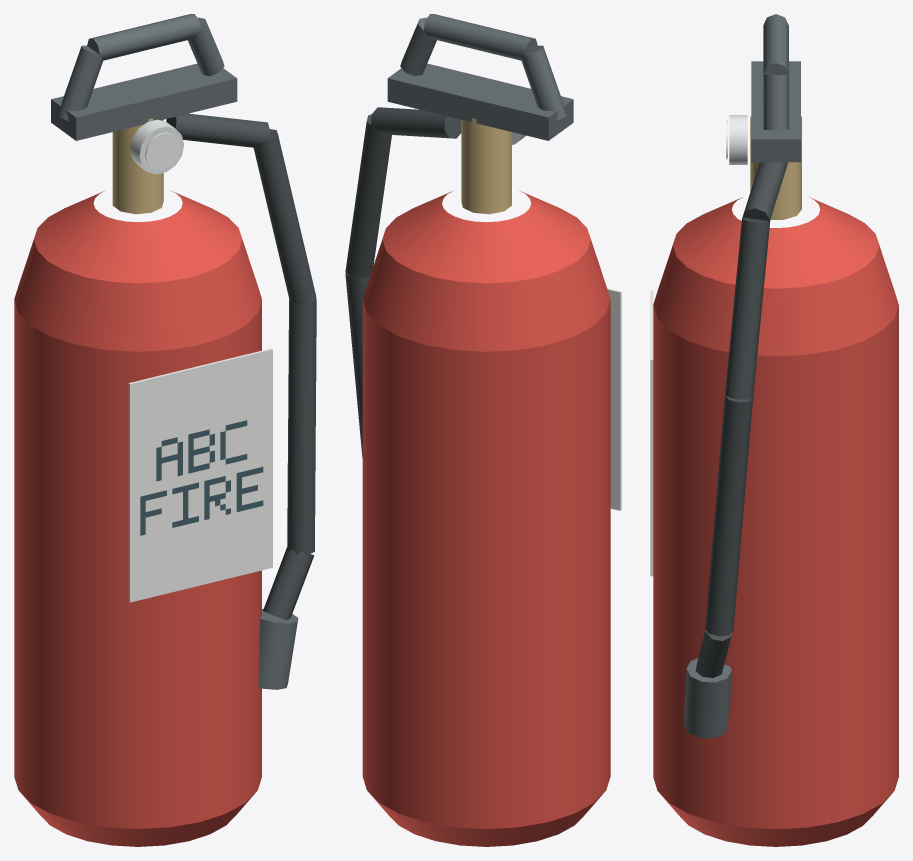
File: extinguisher.glb
3 views of the same model, side by side, from view 1: azimuth 30°, elevation 25°; view 2: azimuth 150°, elevation 25°; view 3: azimuth 270°, elevation 25° (orthographic).
Visible parts, largest first — view 1: Brandsläckare; view 2: Brandsläckare; view 3: Brandsläckare.
Boxes of the visible parts, left/top/right/bottom form: Brandsläckare: left=14, top=14, right=316, bottom=846; Brandsläckare: left=345, top=14, right=621, bottom=846; Brandsläckare: left=650, top=14, right=898, bottom=846.
Size of the model in its own units: 0.214 by 0.597 by 0.175.
